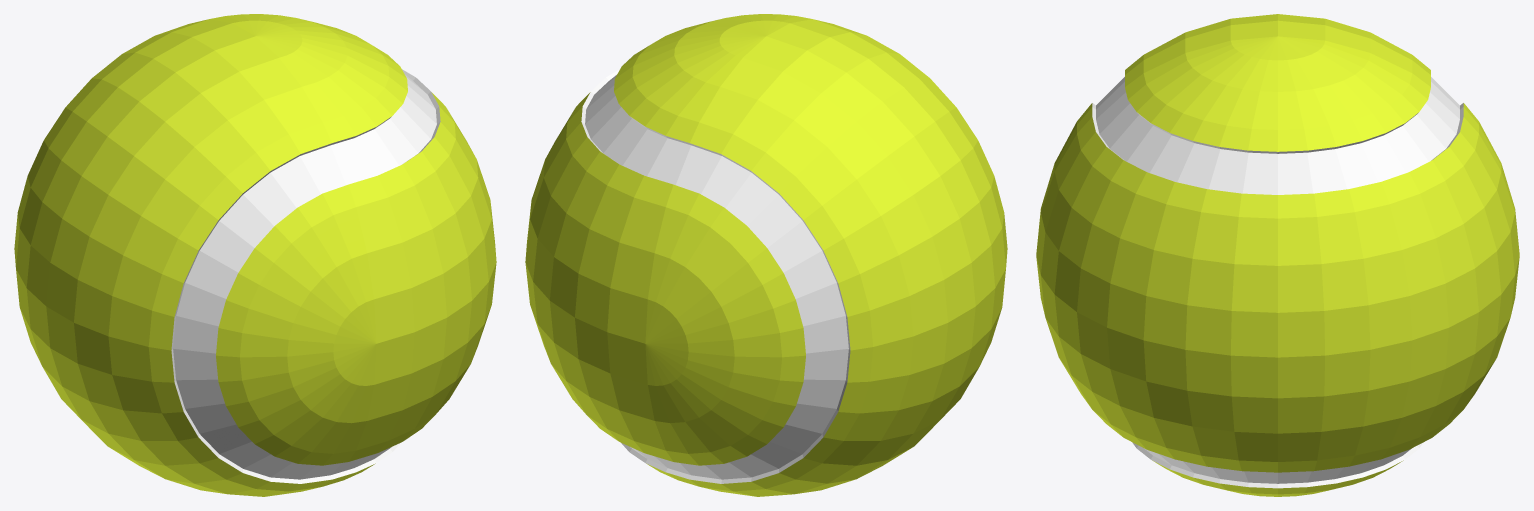
The model's file is pelota1.fbx.
3 views of the same model, side by side, from view 1: azimuth 30°, elevation 25°; view 2: azimuth 150°, elevation 25°; view 3: azimuth 270°, elevation 25° (orthographic).
Parts seen in each view (by area): view 1: pelota; view 2: pelota; view 3: pelota.
Part boxes in pixels (x1=…): pelota: x1=14, y1=14, x2=496, y2=496; pelota: x1=525, y1=14, x2=1007, y2=496; pelota: x1=1036, y1=14, x2=1519, y2=496.
Bounding box in the file's own units: 37.66 × 37.69 × 37.69.
1 material, 1 textured.
